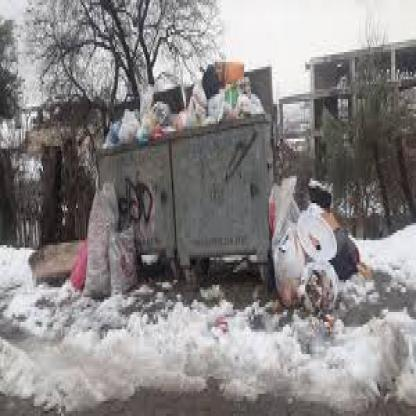Garbage: (279, 179, 362, 330), (70, 188, 138, 292), (180, 64, 268, 124), (98, 94, 178, 131)
